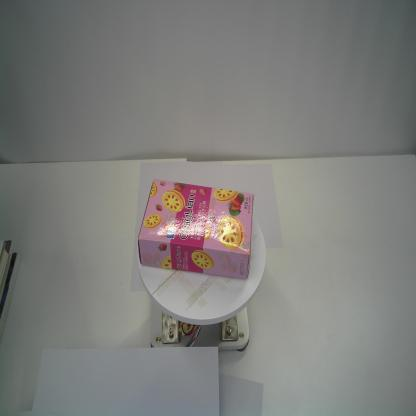Dessert: (137, 176, 256, 282)
